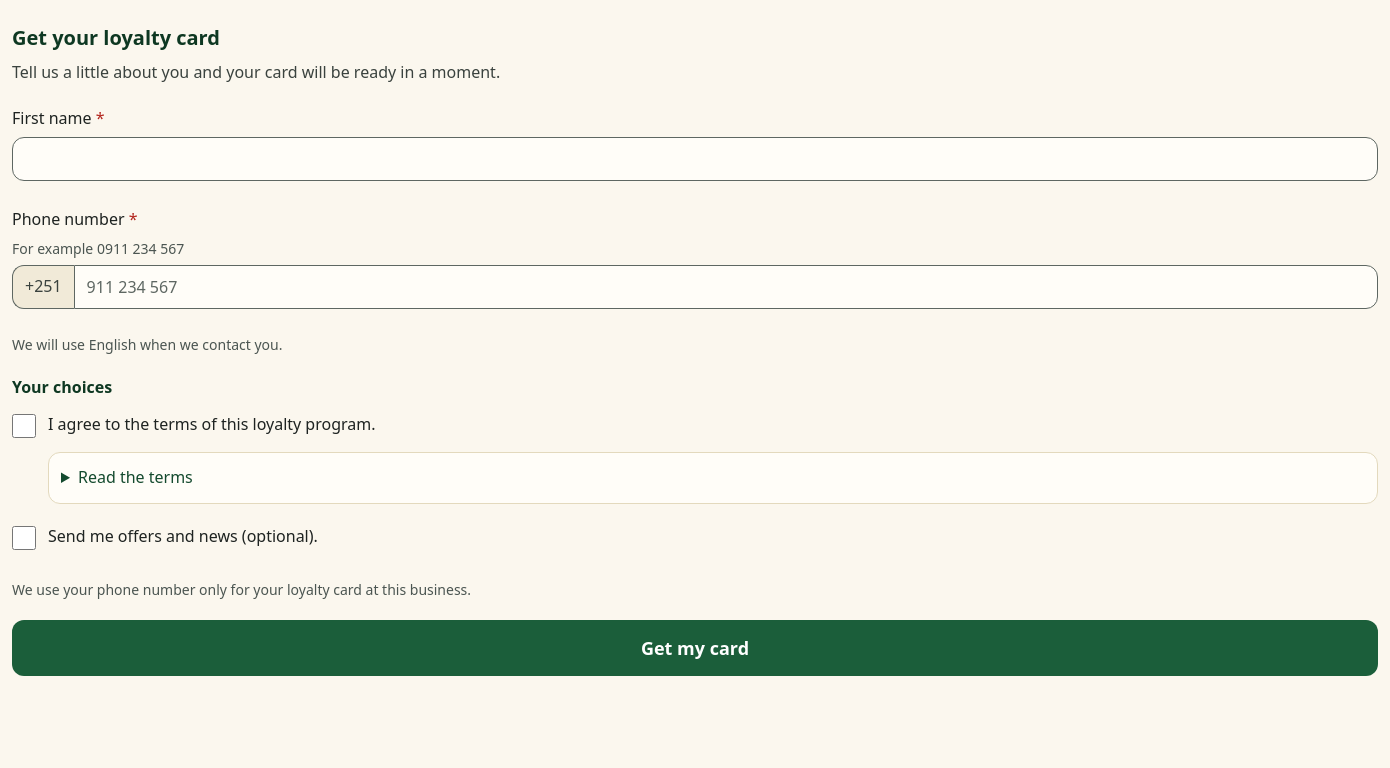
Scenario: EnrollmentFlow › explains an invalid phone number without requiring the marketing consent
Type "Abebe" into the field labelled "First name *" at coordinates (695, 159), box [12, 137, 1378, 181]
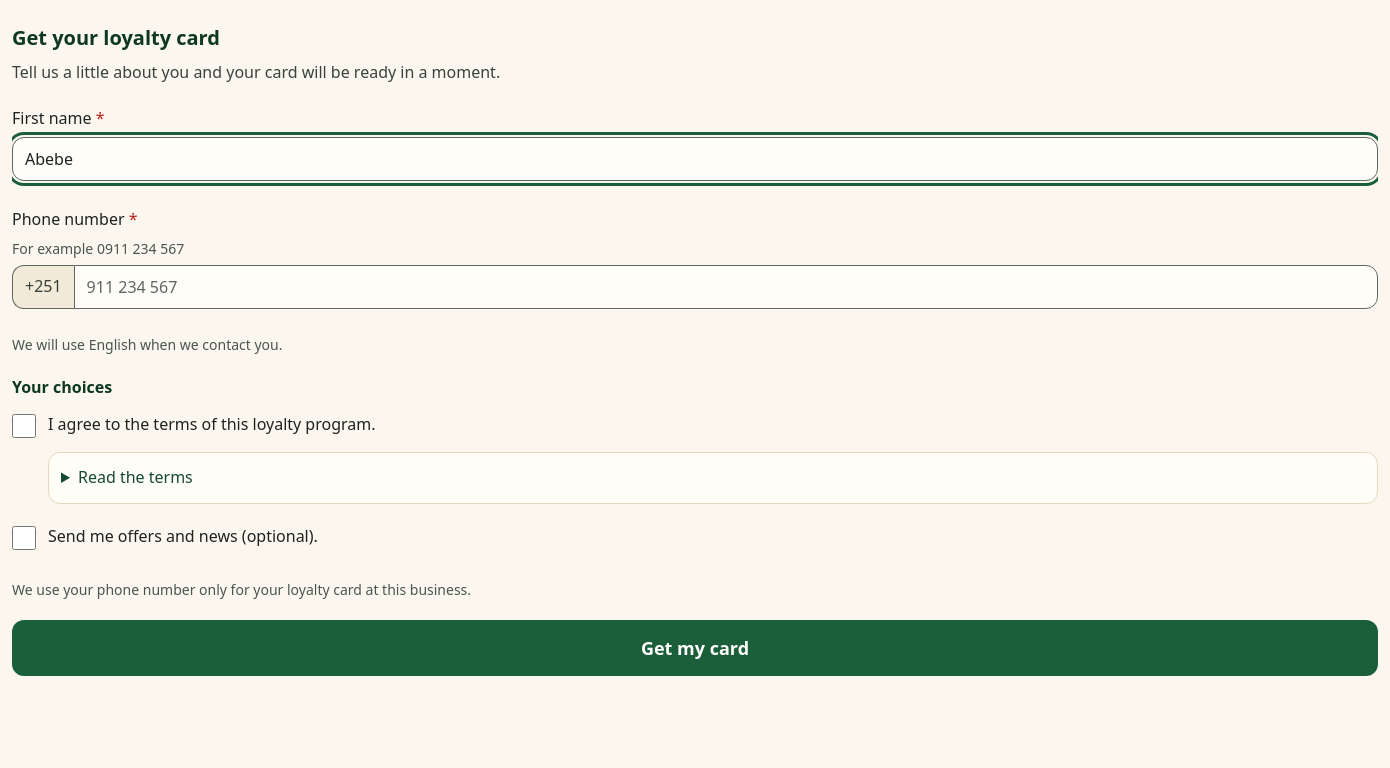
Type "0611234567" into the field labelled "Phone number *" at coordinates (726, 287), box [74, 265, 1378, 309]
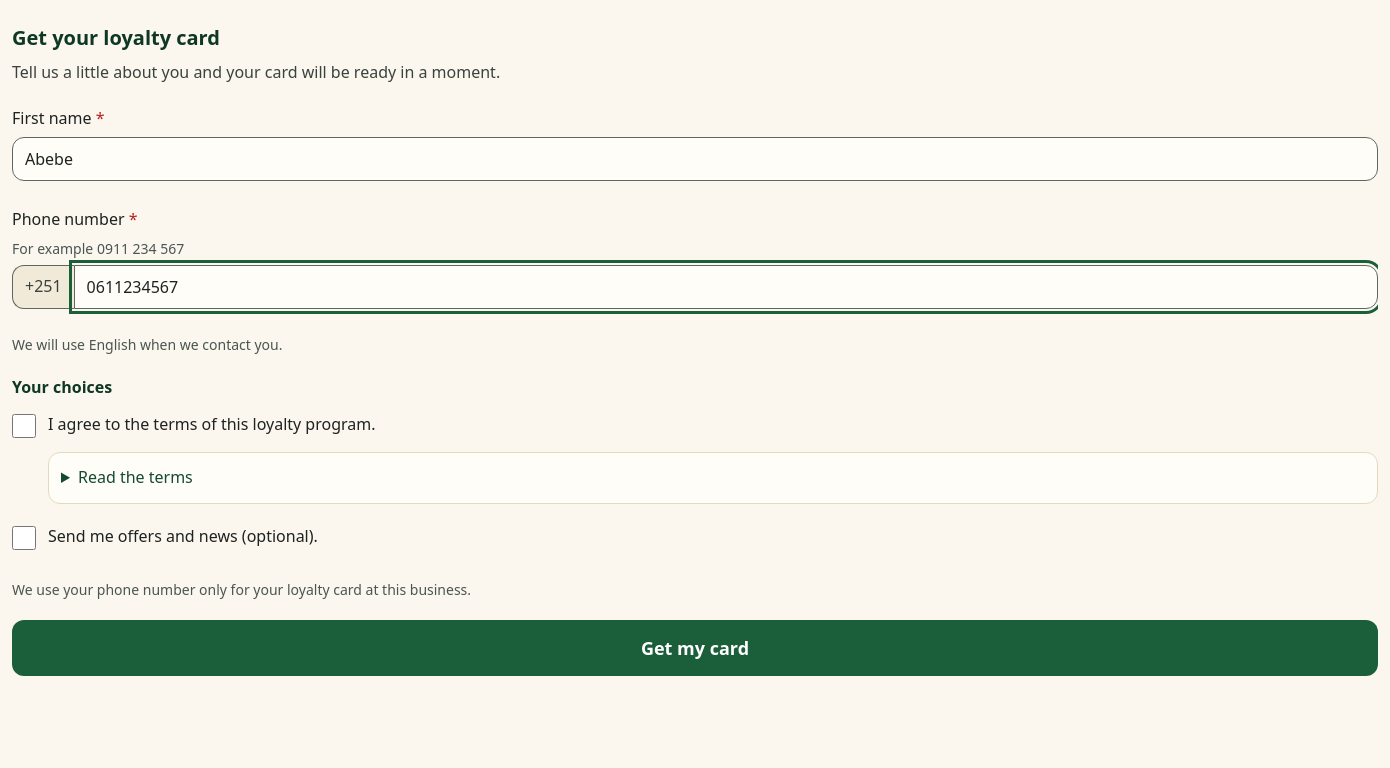
Click the checkbox labelled "I agree to the terms of this loyalty program." at coordinates (24, 426), box [12, 414, 36, 438]
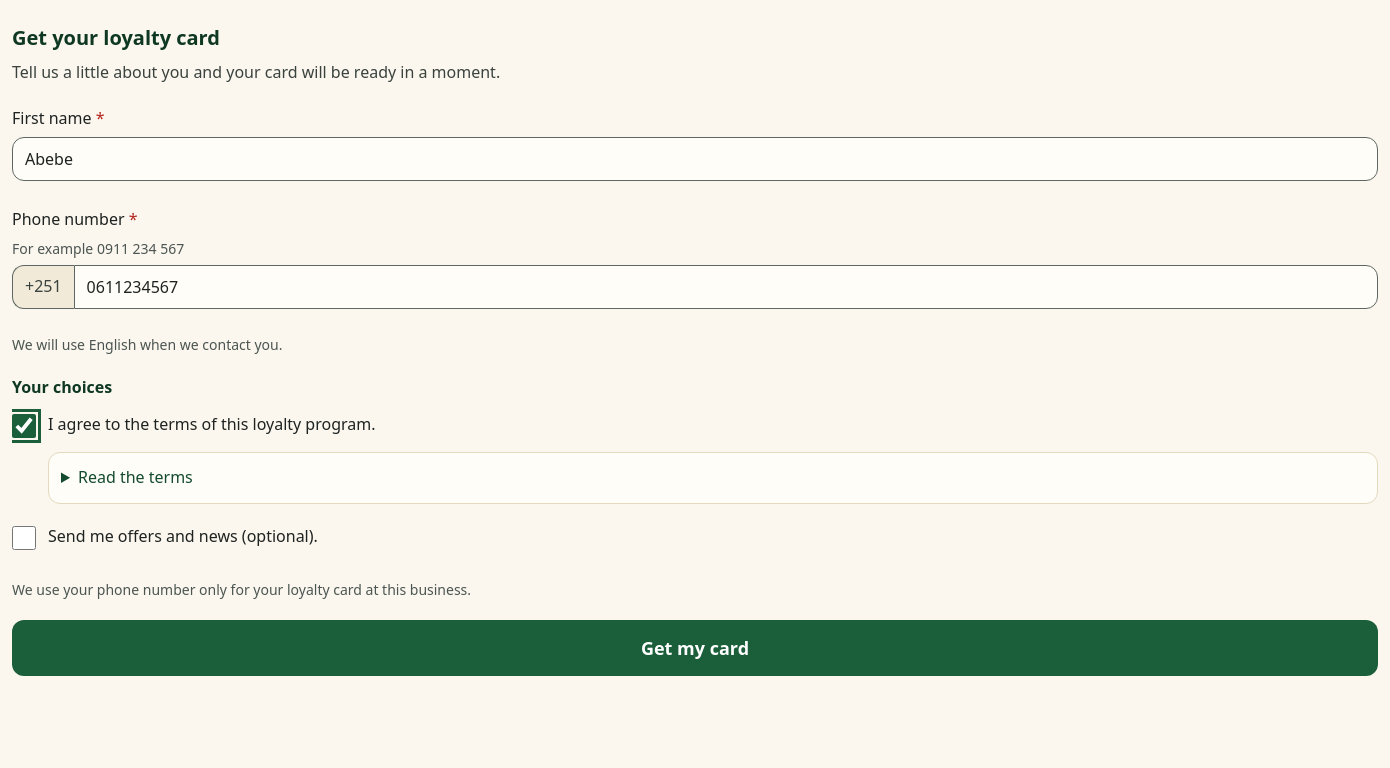
Click the button "Get my card" at coordinates (695, 648), box [12, 620, 1378, 676]
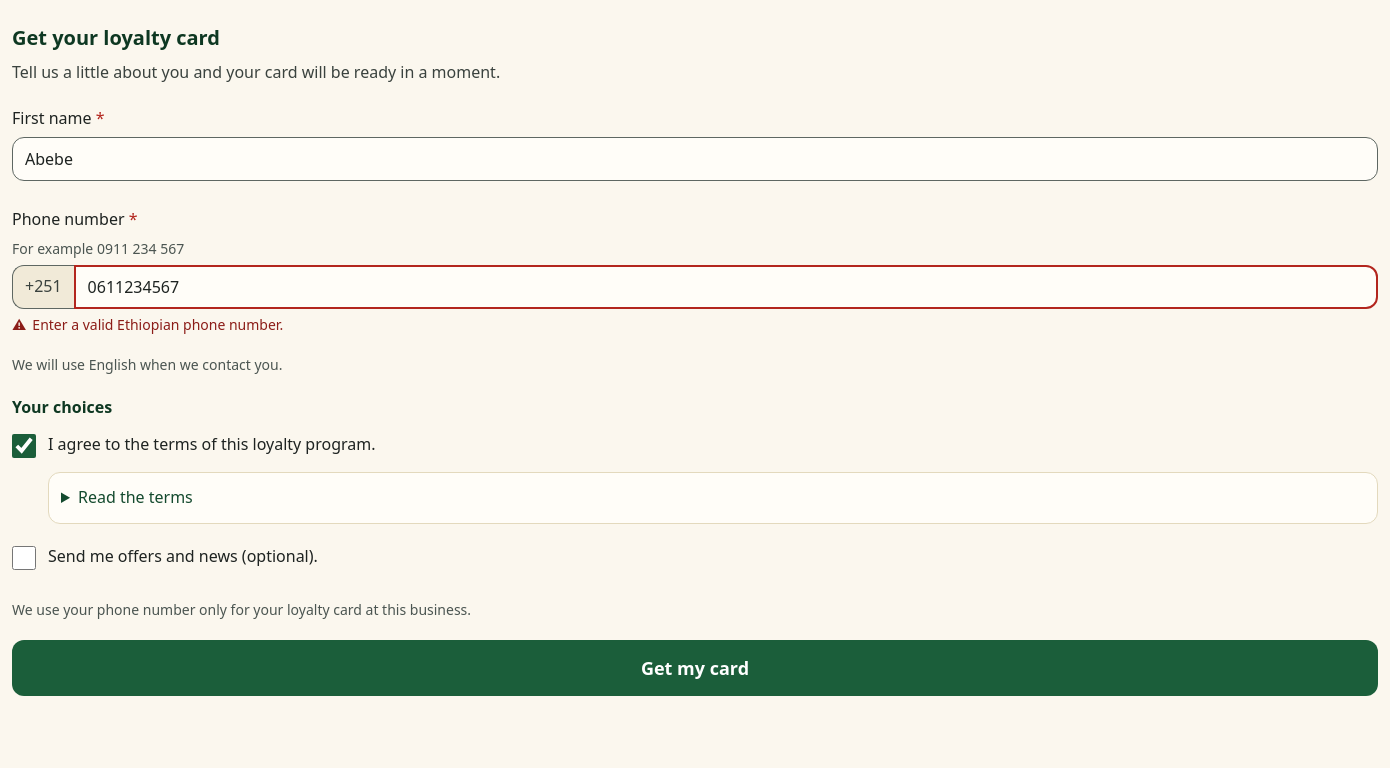
Now the text "Enter a valid Ethiopian phone number." is shown, box [32, 315, 283, 335]
